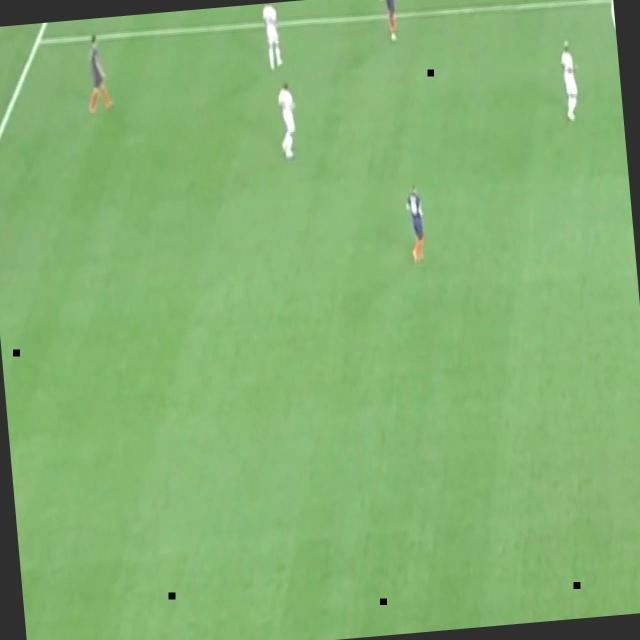player-white: (80, 30, 116, 118), (398, 177, 430, 269), (274, 76, 303, 164), (557, 36, 585, 126), (258, 3, 286, 73), (378, 0, 403, 45)
